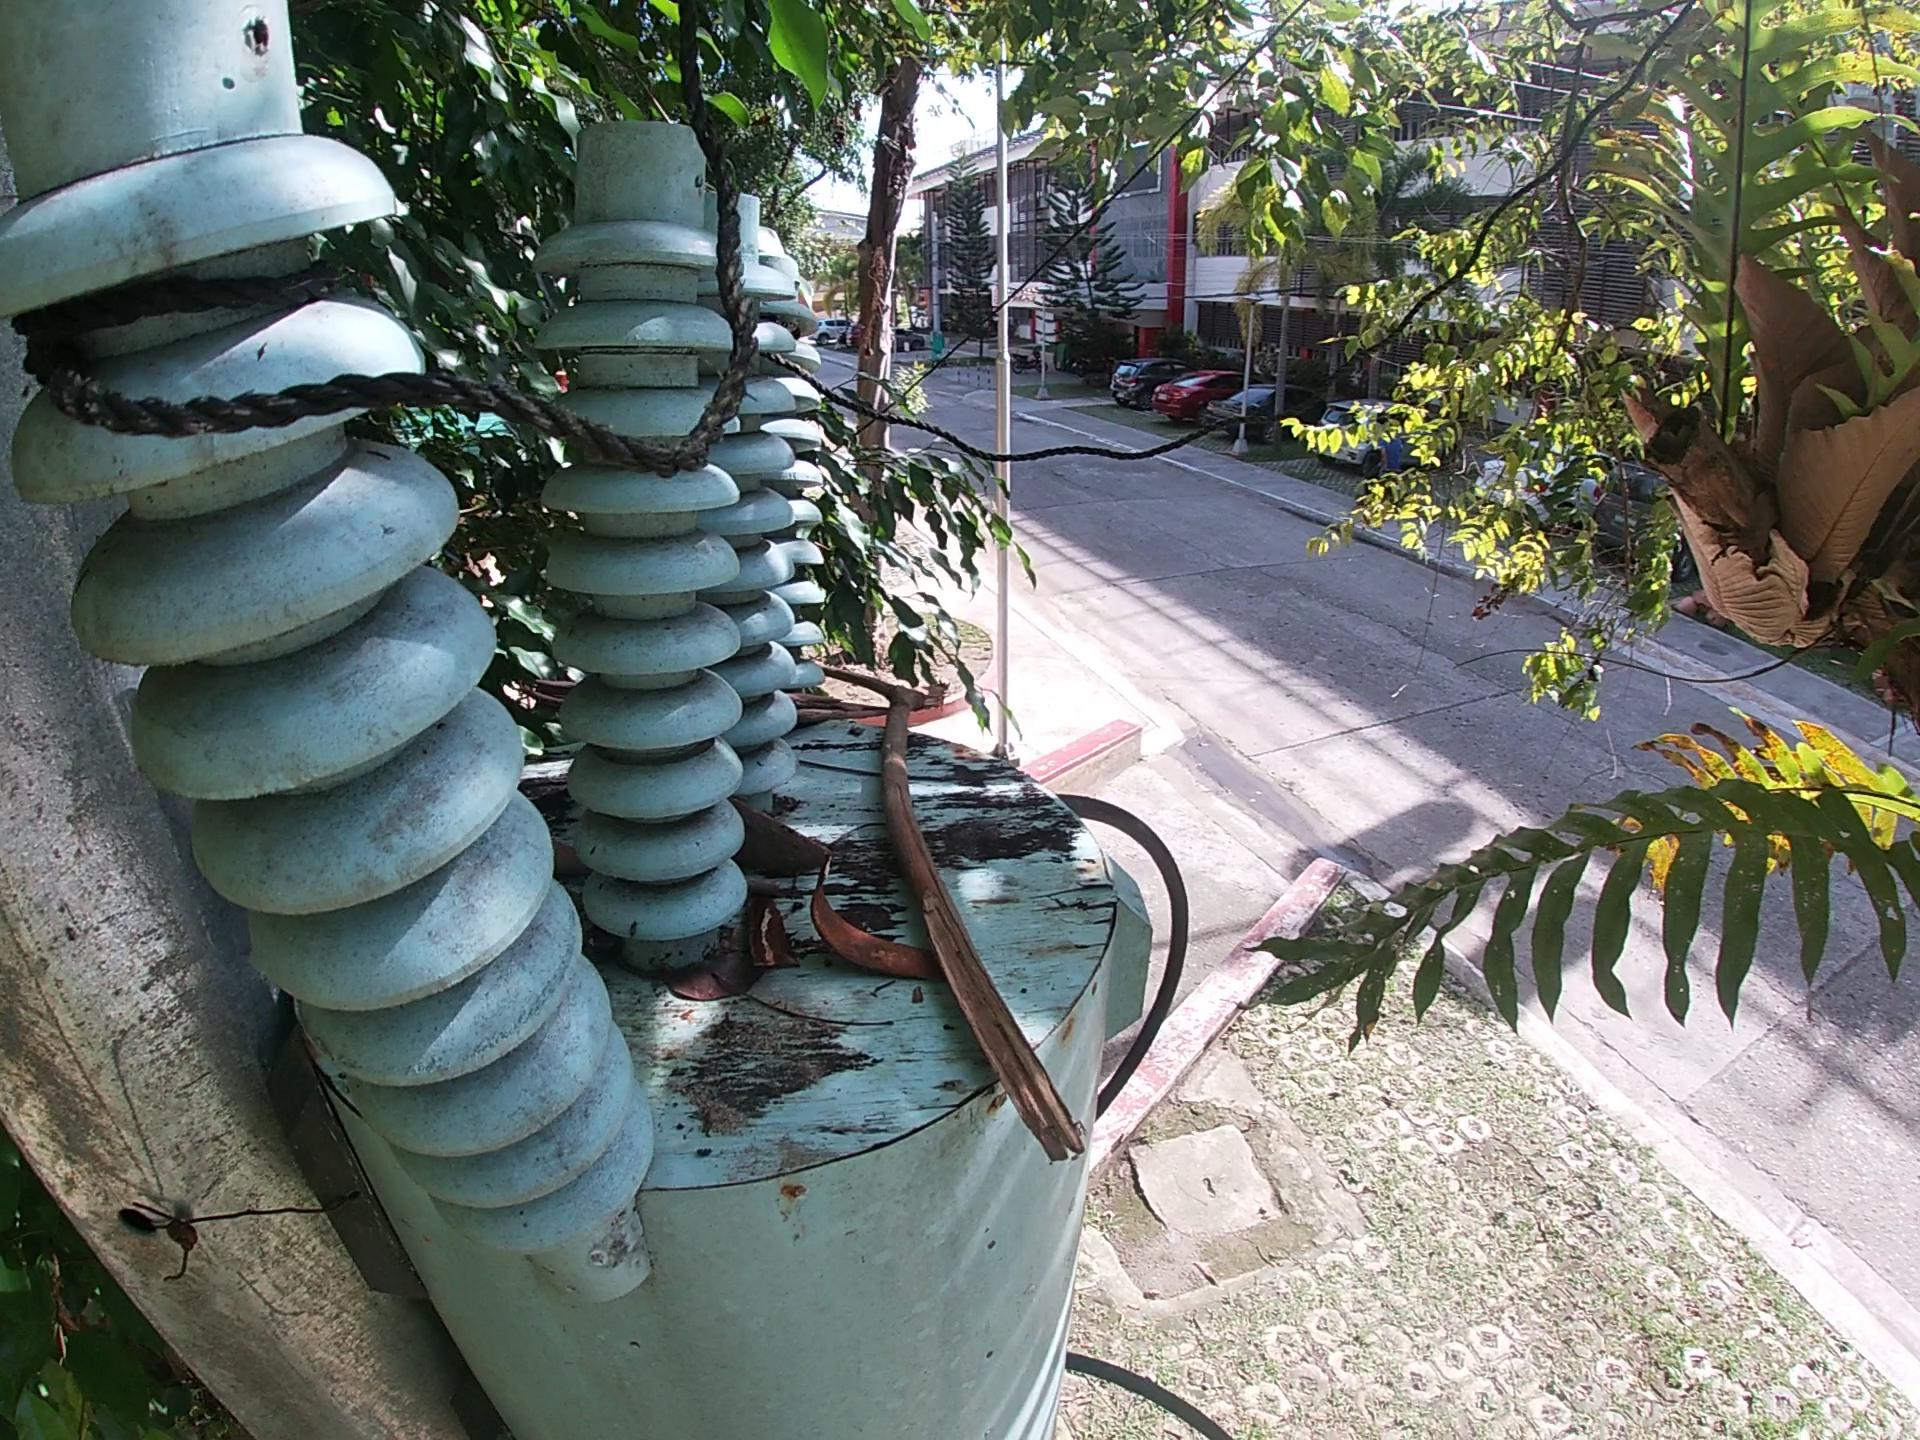leaf: (649, 939, 763, 1007)
mahogany fruit: (806, 852, 945, 983), (723, 797, 833, 882), (742, 892, 794, 970)
tree branch: (810, 653, 1090, 1171), (786, 690, 893, 729), (742, 879, 783, 900)
